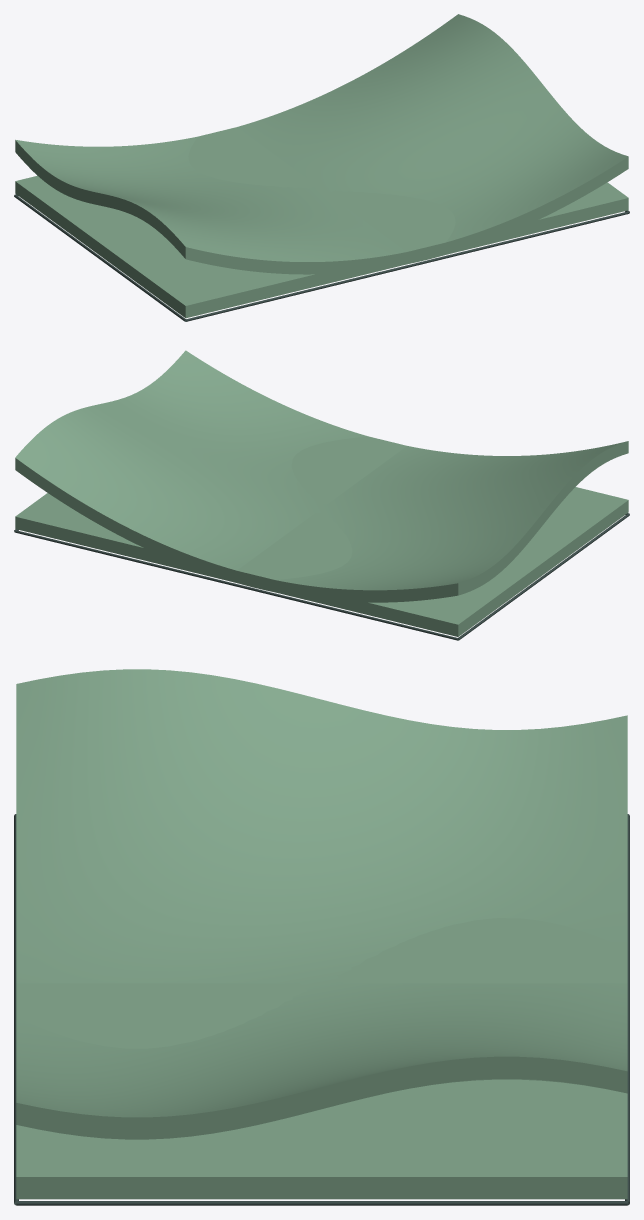
File: warp.glb
The picture shows the model from 3 angles, top to bottom: view 1: azimuth 30°, elevation 25°; view 2: azimuth 150°, elevation 25°; view 3: azimuth 270°, elevation 25°; orthographic projection. The views are drawn at different scales.
Visible parts, largest first — view 1: Panel.001, Panel, Reference plane, Reference plane.002; view 2: Panel.001, Panel, Reference plane.001, Reference plane.002; view 3: Panel.001, Panel, Reference plane.003, Reference plane, Reference plane.001.
Boxes of the visible parts, x1,y1,x2,y2 form: Panel.001: (15, 14, 628, 274); Panel: (15, 127, 628, 318); Reference plane: (185, 211, 629, 321); Reference plane.002: (14, 194, 186, 321); Panel.001: (15, 350, 628, 602); Panel: (15, 436, 628, 636); Reference plane.001: (14, 530, 458, 640); Reference plane.002: (457, 513, 629, 640); Panel.001: (16, 669, 627, 1139); Panel: (16, 918, 627, 1199); Reference plane.003: (16, 1201, 627, 1205); Reference plane: (14, 814, 18, 1205); Reference plane.001: (625, 814, 629, 1205).
Bounding box in the file's own units: 6.03 × 1.08 × 4.03.
